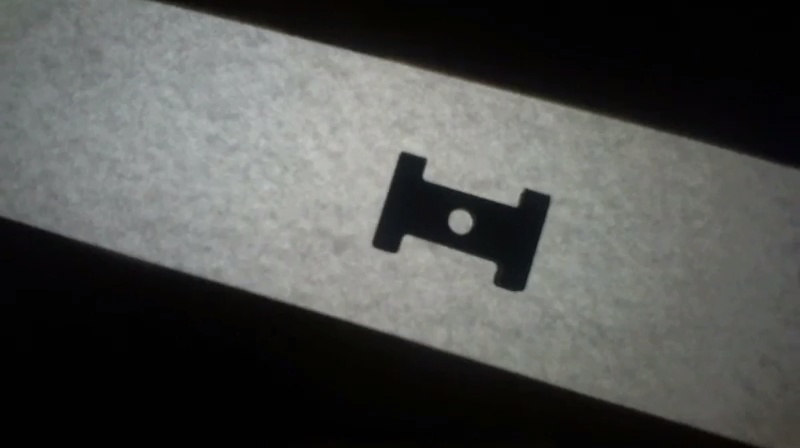O002: (365, 149, 551, 294)
